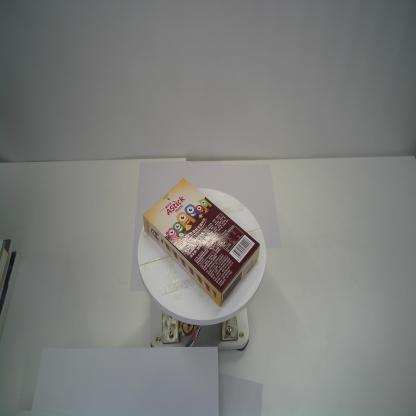Dessert: (143, 178, 260, 307)
